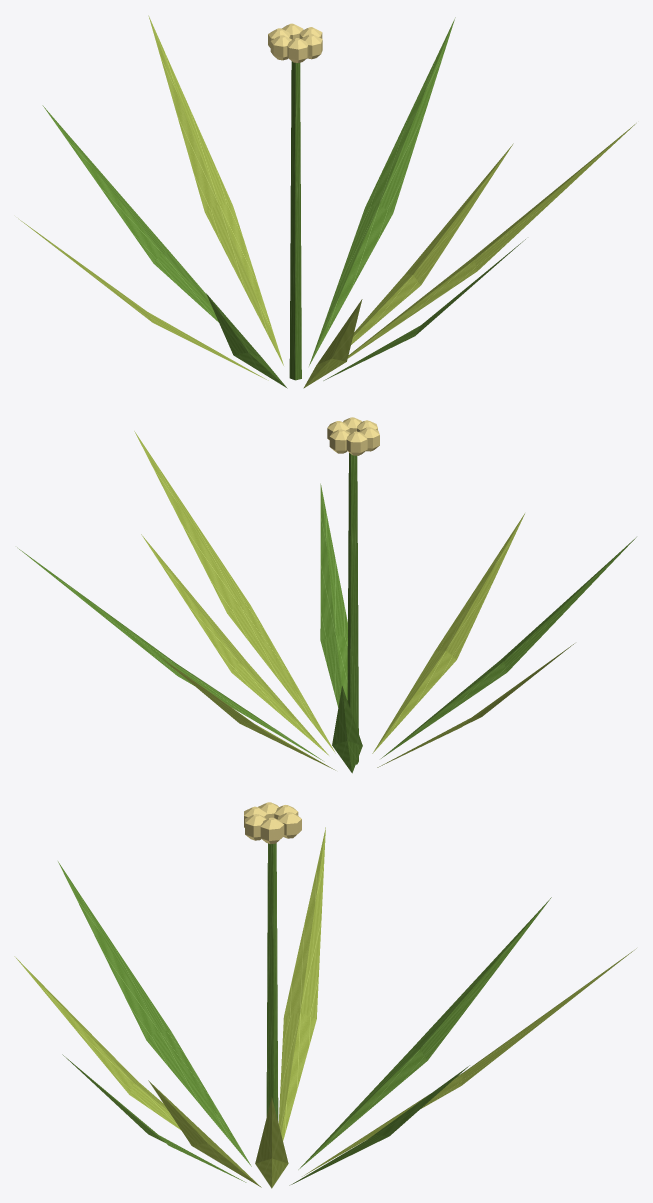
Rendered from crop-garlic-flowering.glb.
3 views of the same model, one above another, from view 1: azimuth 30°, elevation 25°; view 2: azimuth 150°, elevation 25°; view 3: azimuth 270°, elevation 25° (orthographic). The views are drawn at different scales.
Parts seen in each view (by area): view 1: crop-garlic-flowering; view 2: crop-garlic-flowering; view 3: crop-garlic-flowering.
Boxes of the visible parts, x1,y1,x2,y2 form: crop-garlic-flowering: [18, 15, 636, 388]; crop-garlic-flowering: [17, 417, 636, 773]; crop-garlic-flowering: [14, 802, 636, 1188].
Size of the model in its own units: 1.26 by 0.7715 by 1.2.
1 material, 1 textured.
